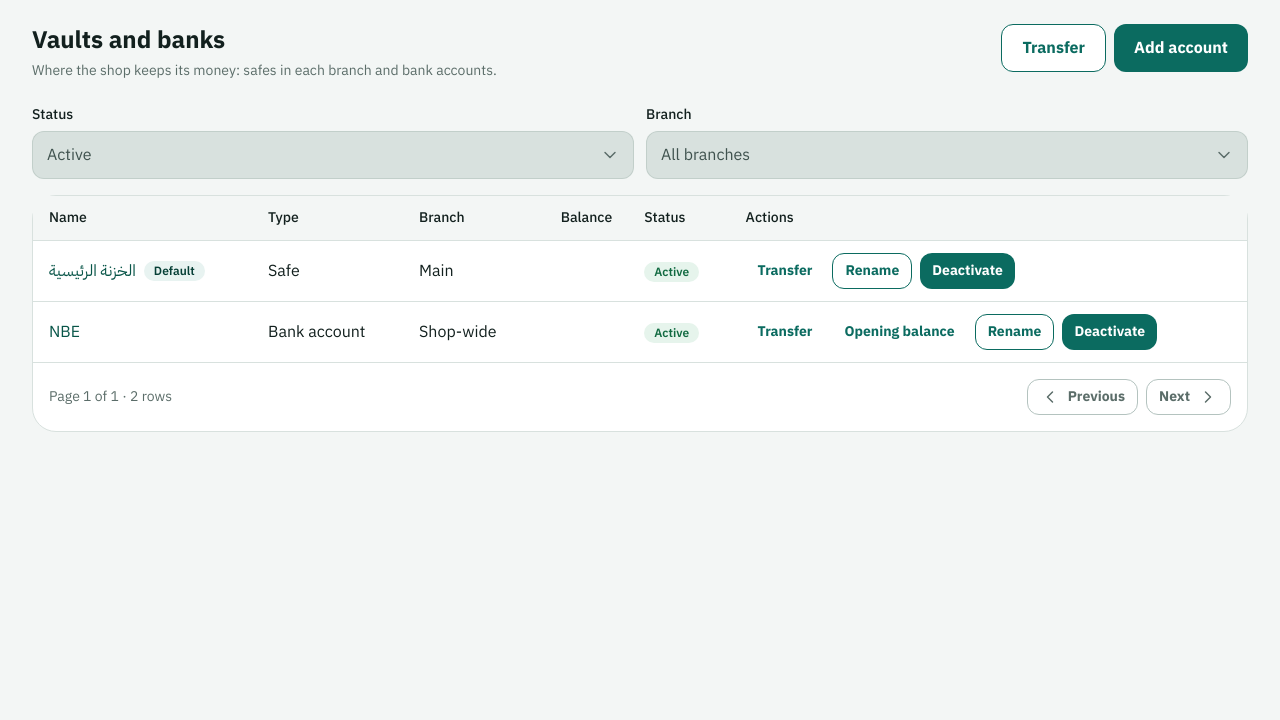
Test case: K01 vaults page › deactivate asks first and shows CASH_ACCOUNT_HAS_BALANCE
Click the button "Deactivate" in the row of "الخزنة الرئيسية" at [968, 271], box [920,253,1015,289]
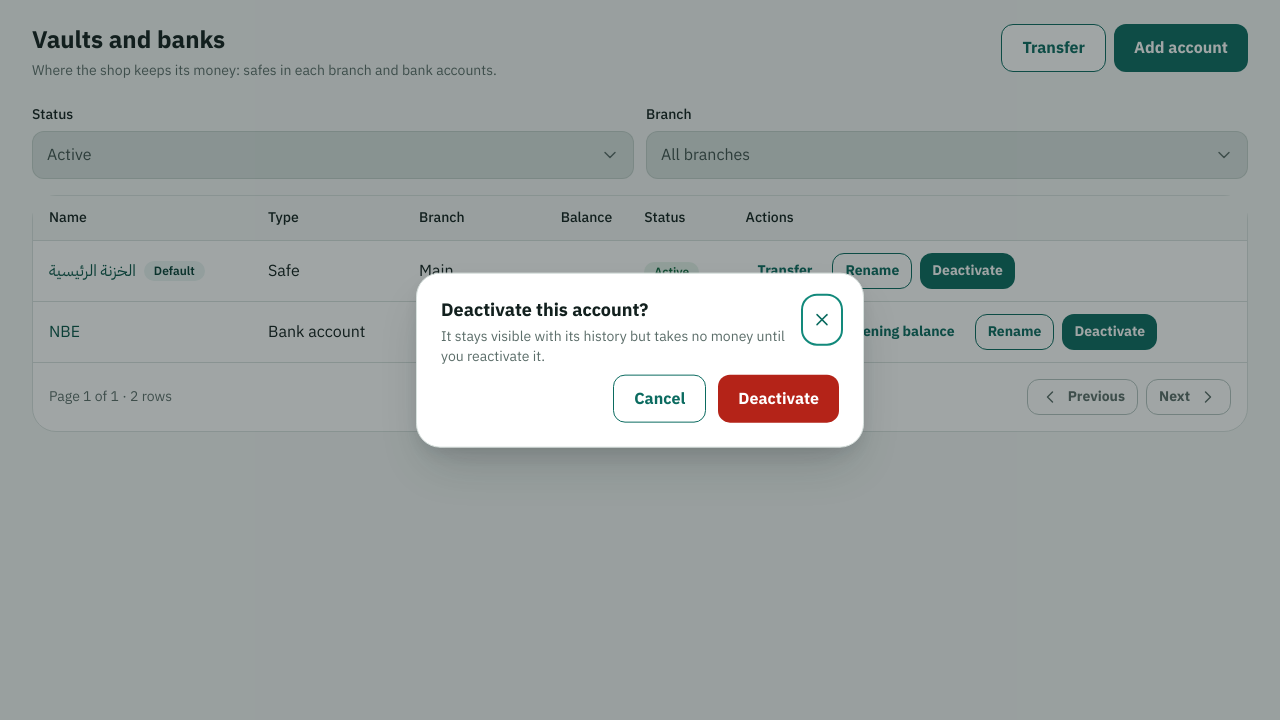
Click the button "Deactivate" at [779, 398], box [718,374,839,422]
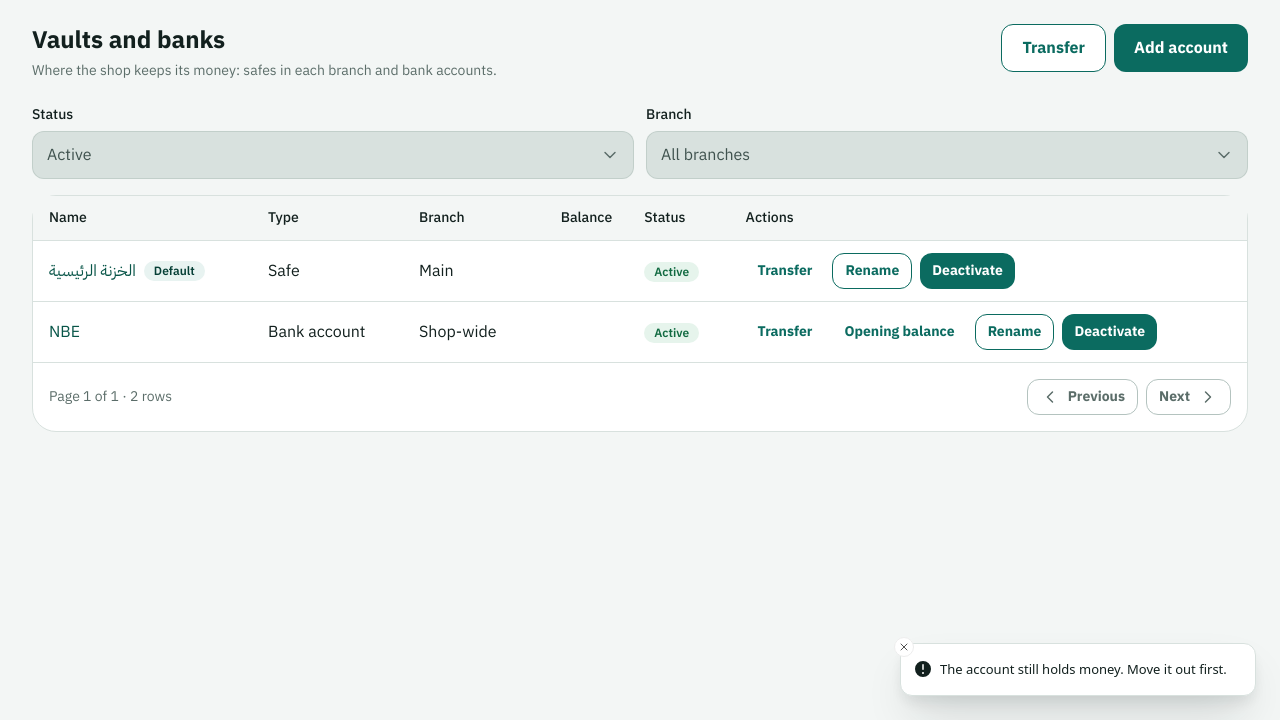
Result: the text "The account still holds money. Move it out first." is shown at [940,660,1227,679]
